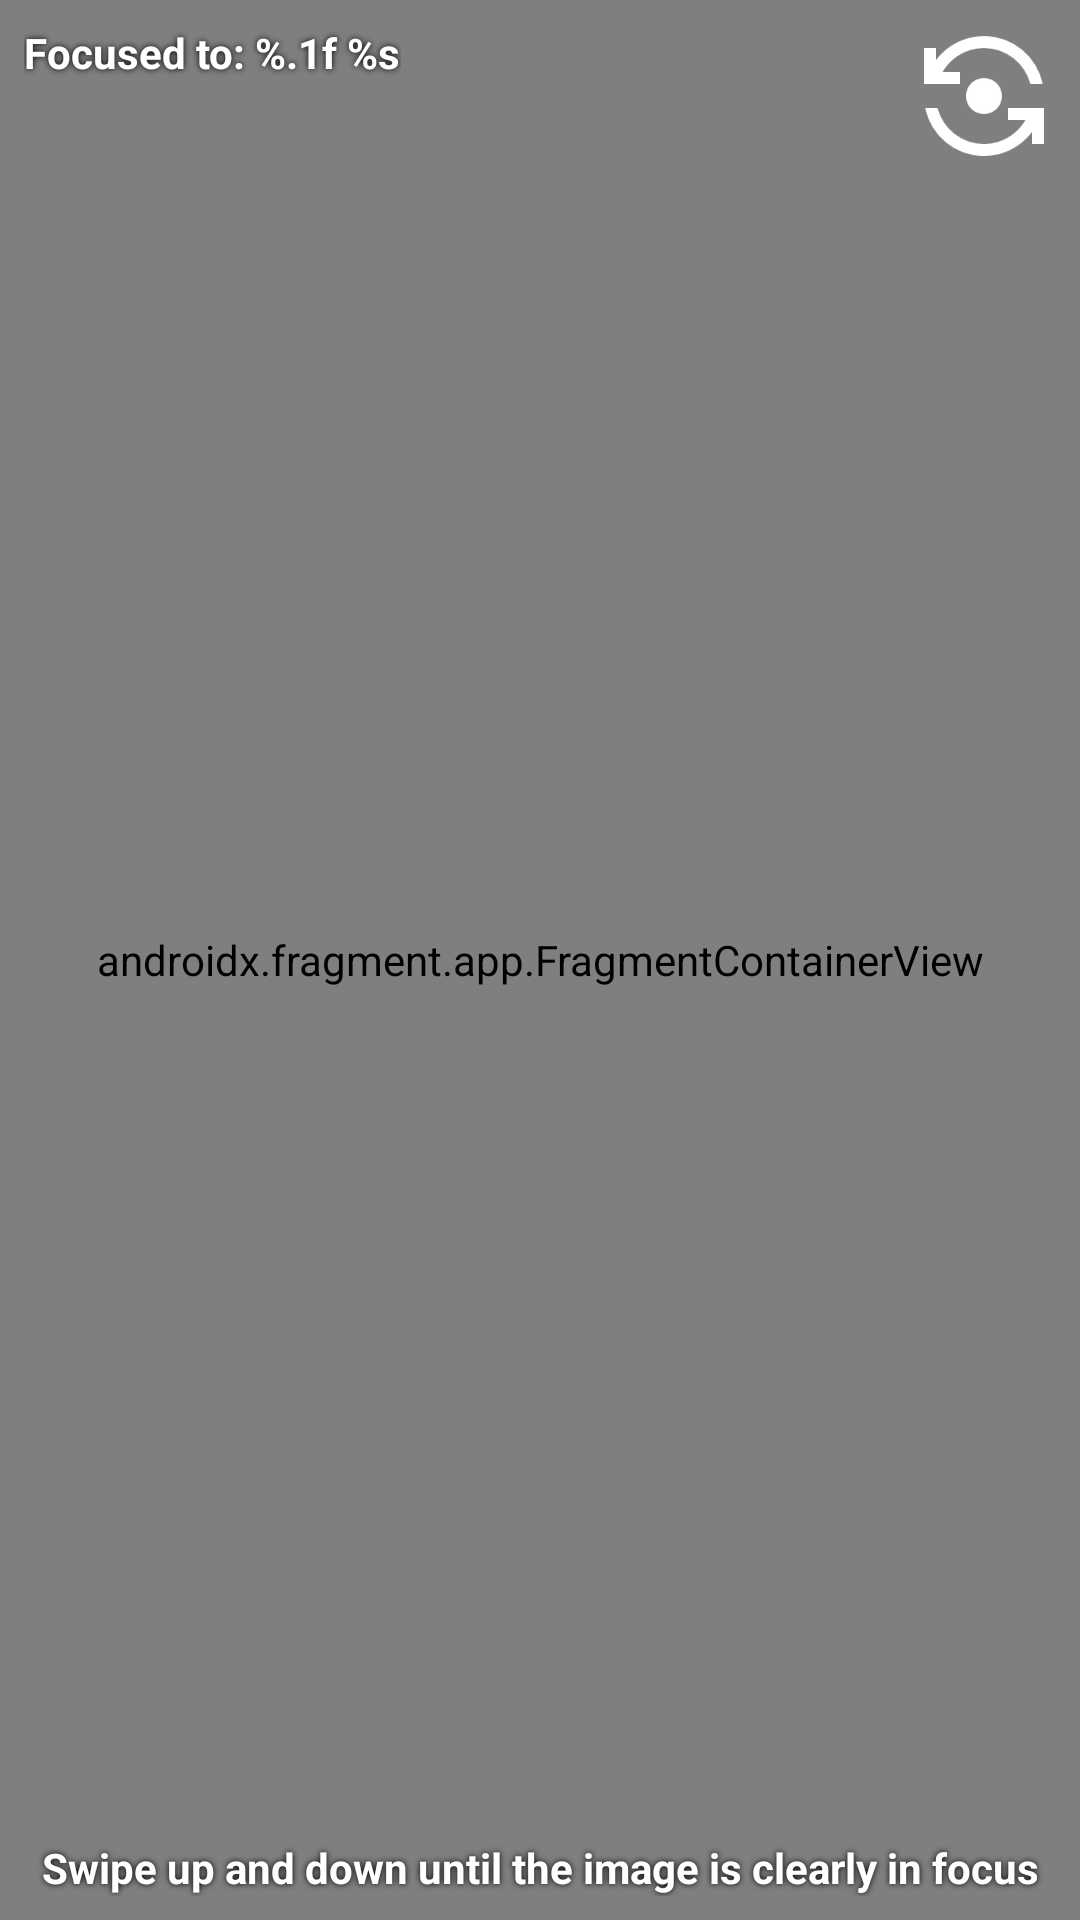

Icon bounding boxes for this 1080x1920 phone screenshot, format box=[x1, y1, x2, y2]:
flip camera android: box=[924, 36, 1044, 156]
